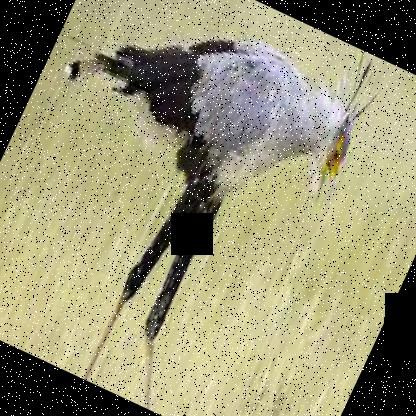Sagittarius serpentarius: (0, 0, 396, 415)
